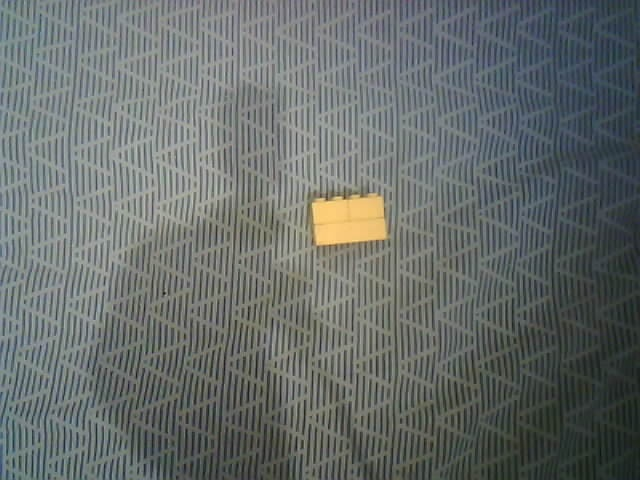lego: (309, 191, 388, 248)
